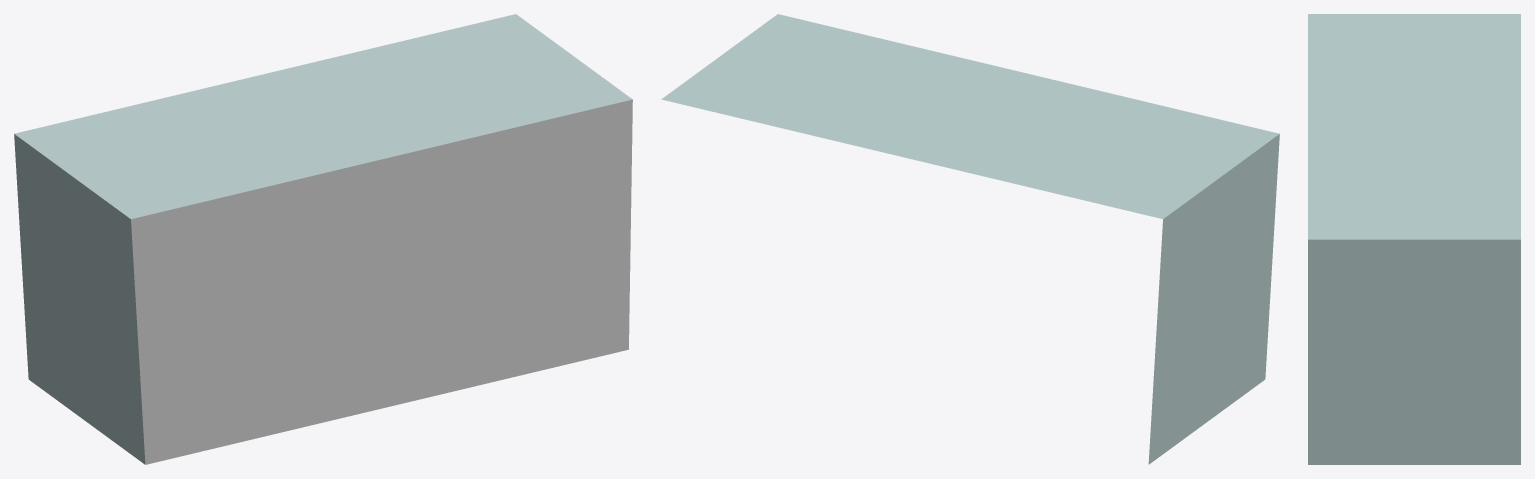
3 renders of one model, left to right at view 1: azimuth 30°, elevation 25°; view 2: azimuth 150°, elevation 25°; view 3: azimuth 270°, elevation 25°, orthographic. The views are drawn at different scales.
Visible parts, largest first — view 1: 0_3_1_2_3_3_1_0_2; view 2: 0_3_1_2_3_3_1_0_2; view 3: 0_3_1_2_3_3_1_0_2.
Part boxes in pixels (x1,y1,x2,y2): 0_3_1_2_3_3_1_0_2: (14, 14, 632, 464); 0_3_1_2_3_3_1_0_2: (661, 14, 1279, 464); 0_3_1_2_3_3_1_0_2: (1308, 14, 1520, 464).
Size of the model in its own units: 7.44 by 3.57 by 3.
